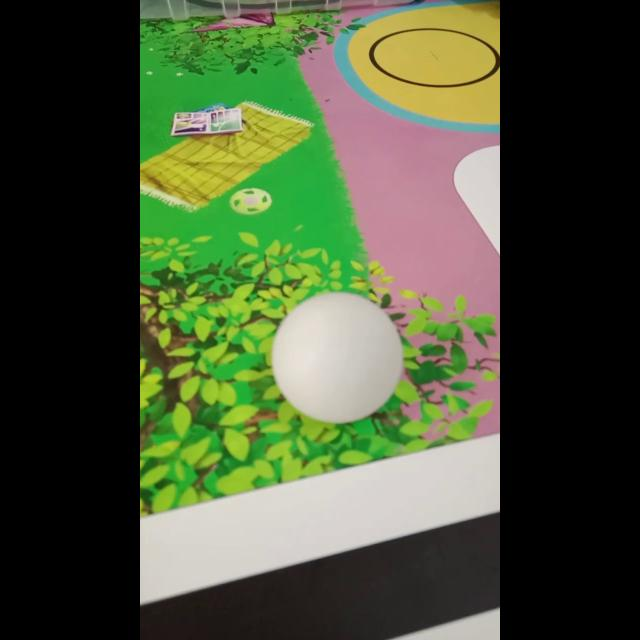white ball: (270, 291, 404, 425)
